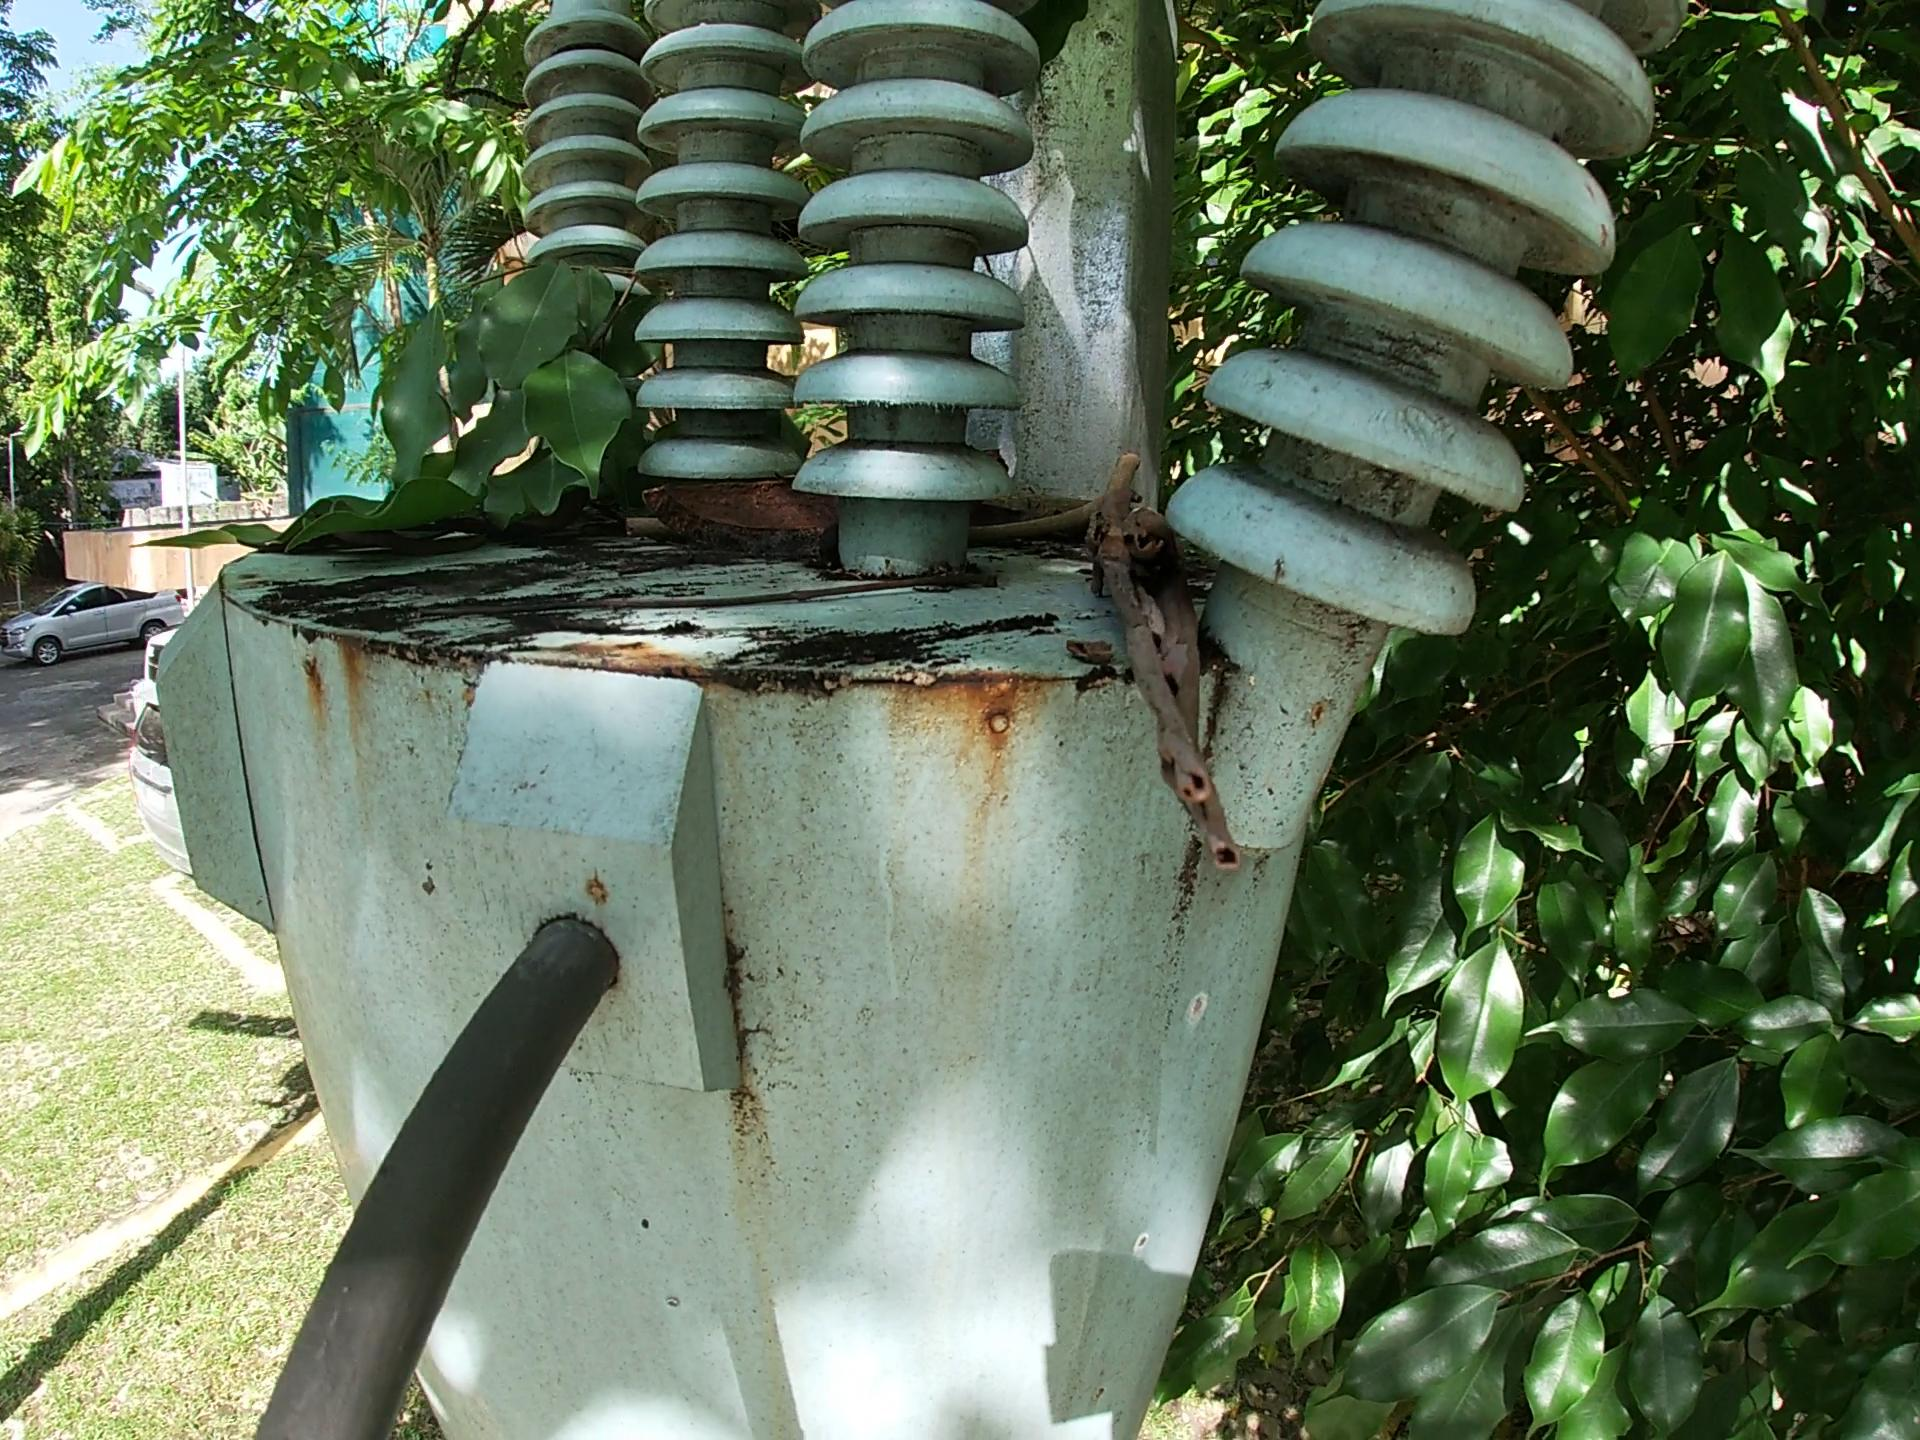branch with leaves: (125, 234, 683, 590)
mahogany fruit: (652, 473, 859, 548)
tree branch: (1098, 489, 1253, 888), (955, 455, 1157, 554), (955, 493, 1087, 517), (621, 508, 670, 543)
